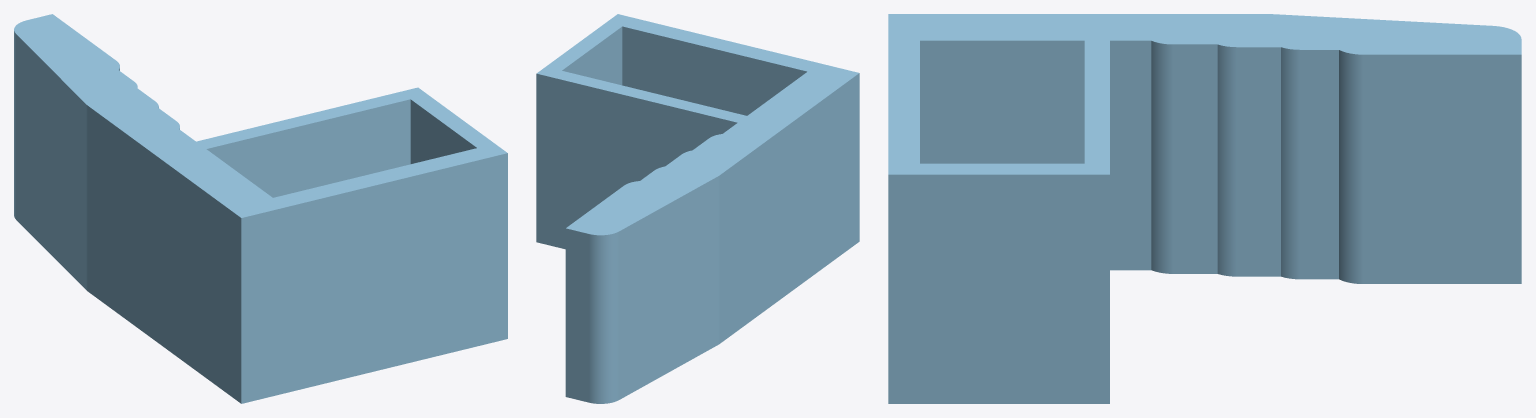
The model's file is gripper_fingers.dae.
The picture shows the model from 3 angles, left to right: view 1: azimuth 30°, elevation 25°; view 2: azimuth 150°, elevation 25°; view 3: azimuth 270°, elevation 25°; orthographic projection. The views are drawn at different scales.
Parts seen in each view (by area): view 1: ID2; view 2: ID2; view 3: ID2.
Boxes of the visible parts, <box> form: ID2: <box>14,14,507,403</box>; ID2: <box>536,14,859,403</box>; ID2: <box>888,14,1521,403</box>.
Bounding box in the file's own units: 0.06 × 0.1 × 0.04.
